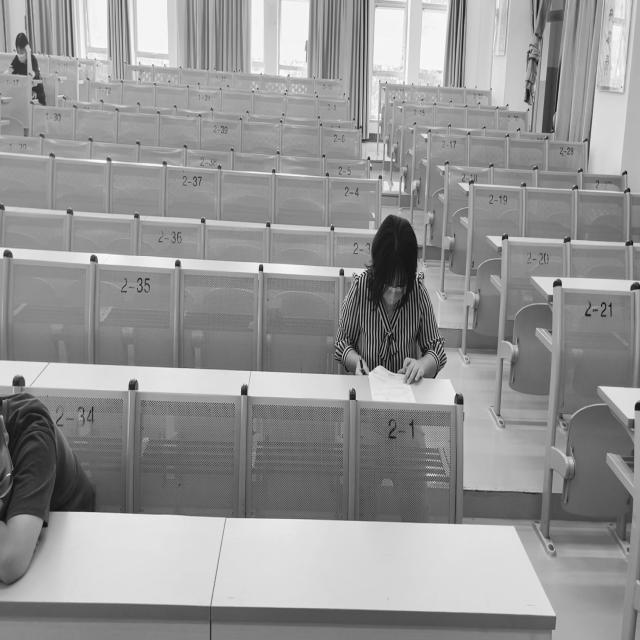study: (335, 217, 442, 373), (11, 34, 35, 72)
